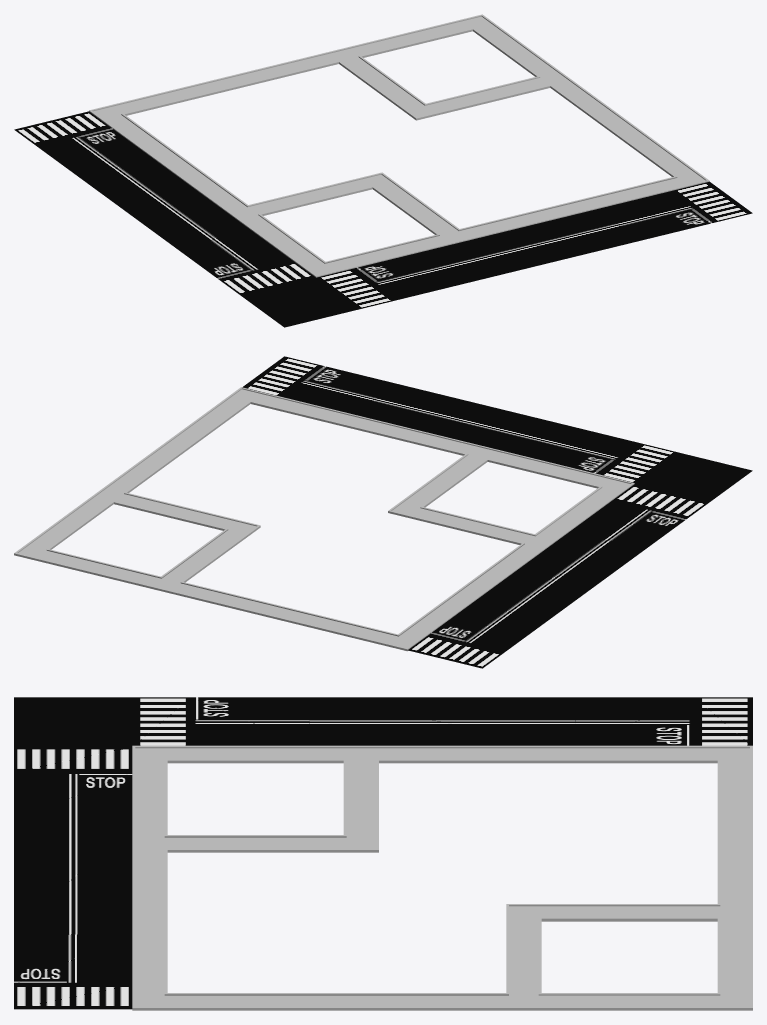
File: Street_06.fbx
3 views of the same model, one above another, from view 1: azimuth 30°, elevation 25°; view 2: azimuth 150°, elevation 25°; view 3: azimuth 270°, elevation 25° (orthographic). The views are drawn at different scales.
Visible parts, largest first — view 1: road, sidewalk; view 2: road, sidewalk; view 3: road, sidewalk.
Boxes of the visible parts, x1,y1,x2,y2 form: road: [14, 111, 752, 327]; sidewalk: [89, 14, 709, 277]; road: [242, 356, 752, 668]; sidewalk: [14, 387, 634, 651]; road: [14, 697, 752, 1009]; sidewalk: [132, 745, 752, 1010].
Bounding box in the file's own units: 5000 × 20 × 5000.
